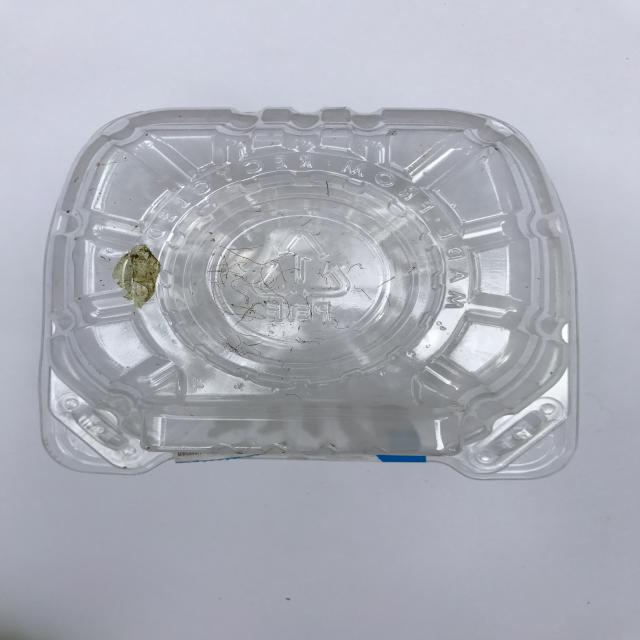plastic: (38, 105, 580, 480)
